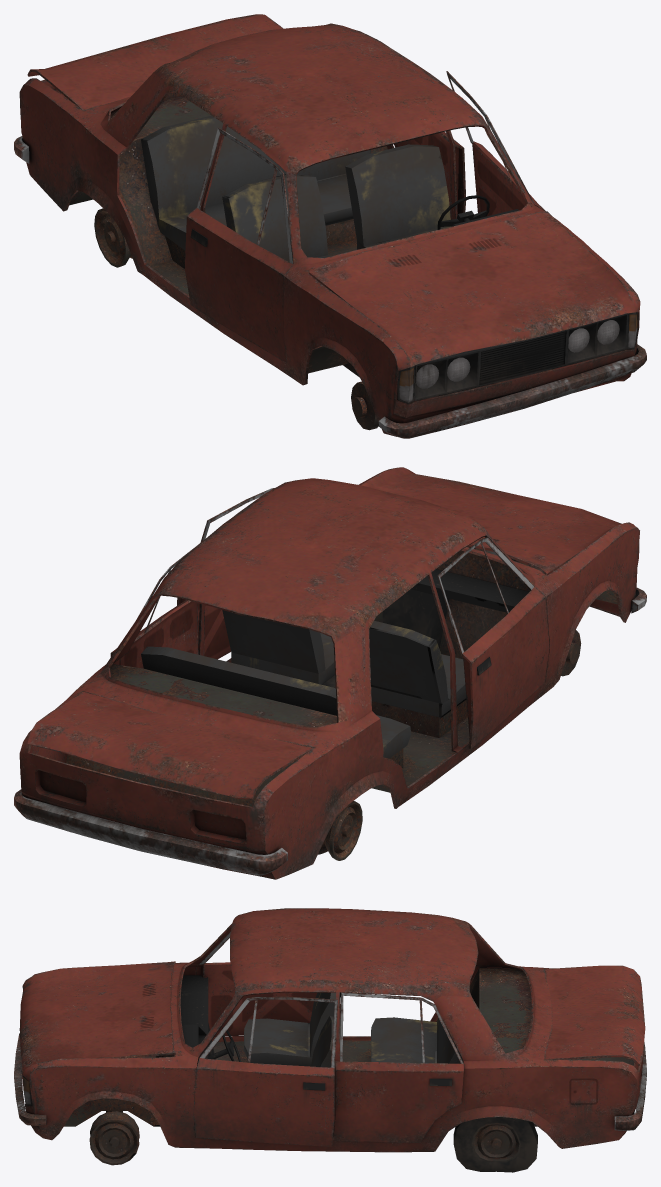
Rendered from fiat.glb.
3 views of the same model, one above another, from view 1: azimuth 30°, elevation 25°; view 2: azimuth 150°, elevation 25°; view 3: azimuth 270°, elevation 25° (orthographic). The views are drawn at different scales.
Parts seen in each view (by area): view 1: body, floor; view 2: body, floor; view 3: body, floor.
Boxes of the visible parts, box(x1,y1,x2,y2) form: body: box(14, 14, 646, 438); floor: box(69, 92, 627, 430); body: box(14, 467, 646, 879); floor: box(66, 546, 617, 860); body: box(14, 908, 646, 1152); floor: box(64, 967, 634, 1172).
Size of the model in its own units: 78.95 by 58.53 by 180.
2 materials, 2 textured.
